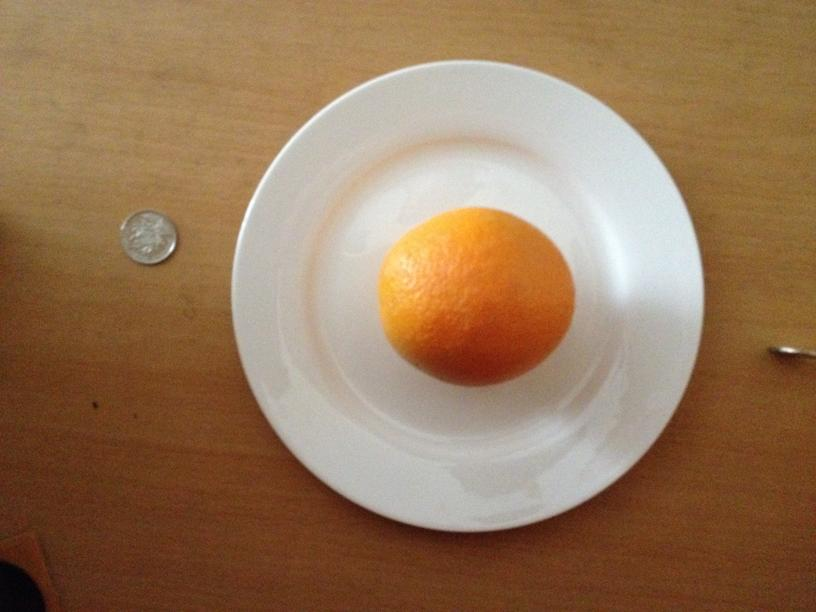coin: (116, 206, 176, 265)
orange: (379, 208, 573, 387)
